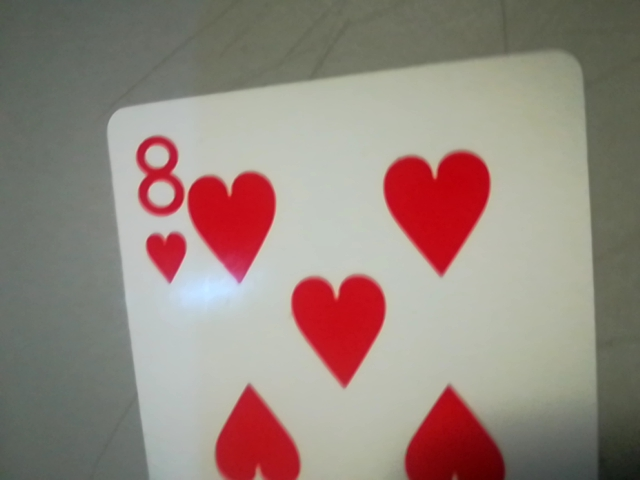hx 8: (119, 121, 194, 289)
